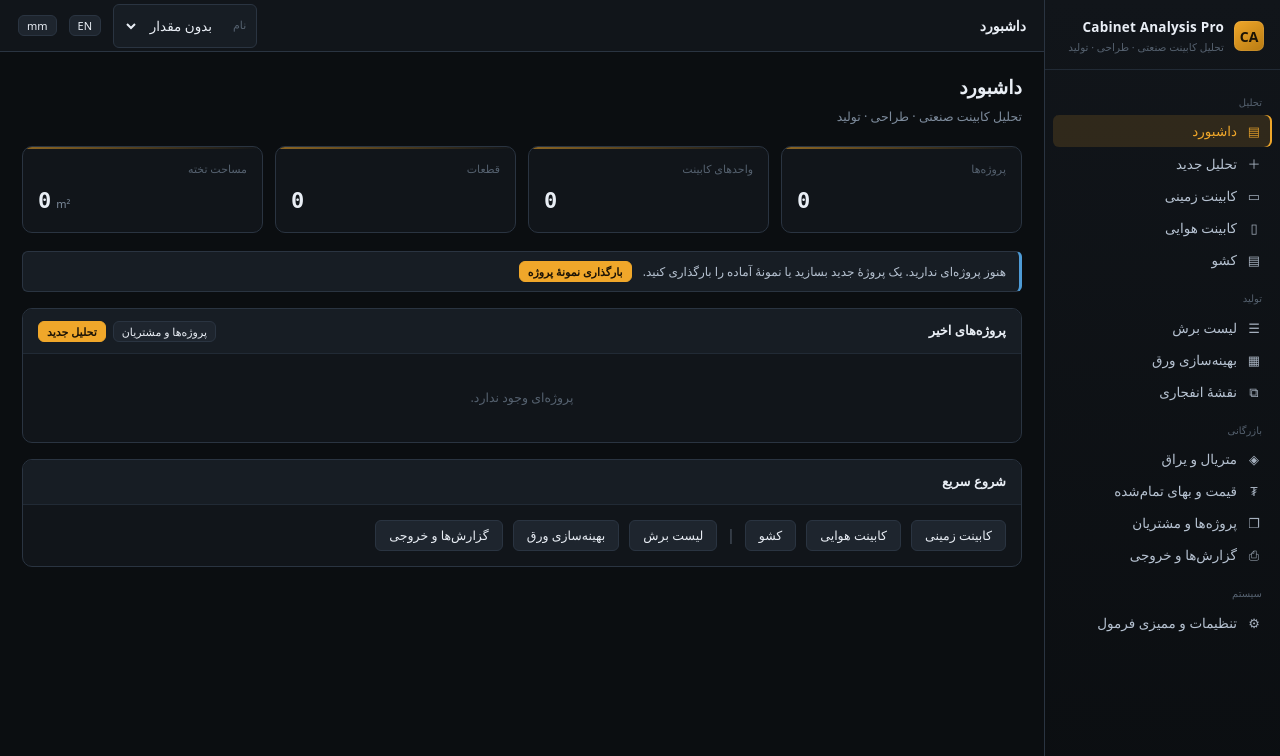
ground cabinet screen › rejects an impossible width with a visible error
Click the button "بارگذاری نمونهٔ پروژه": (575, 272) [519, 261, 632, 282]
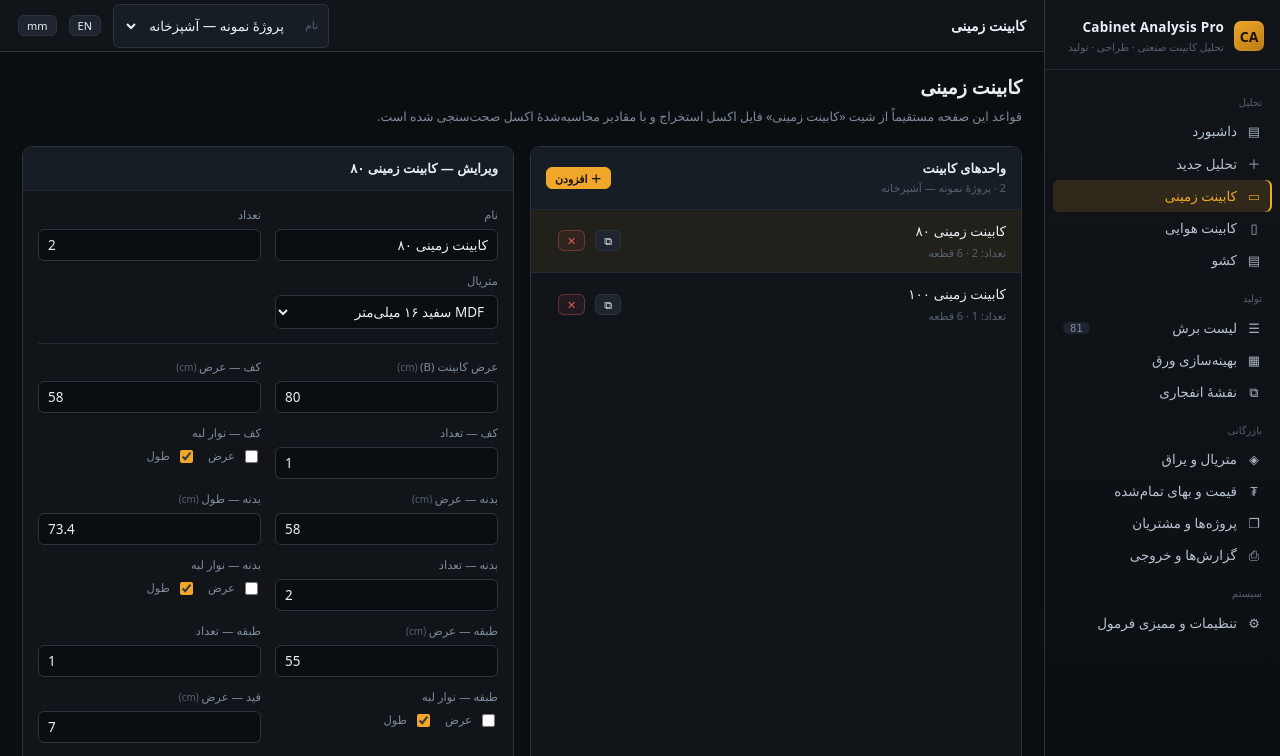
Click the button "▭ کابینت زمینی": (1162, 196) [1053, 180, 1272, 212]
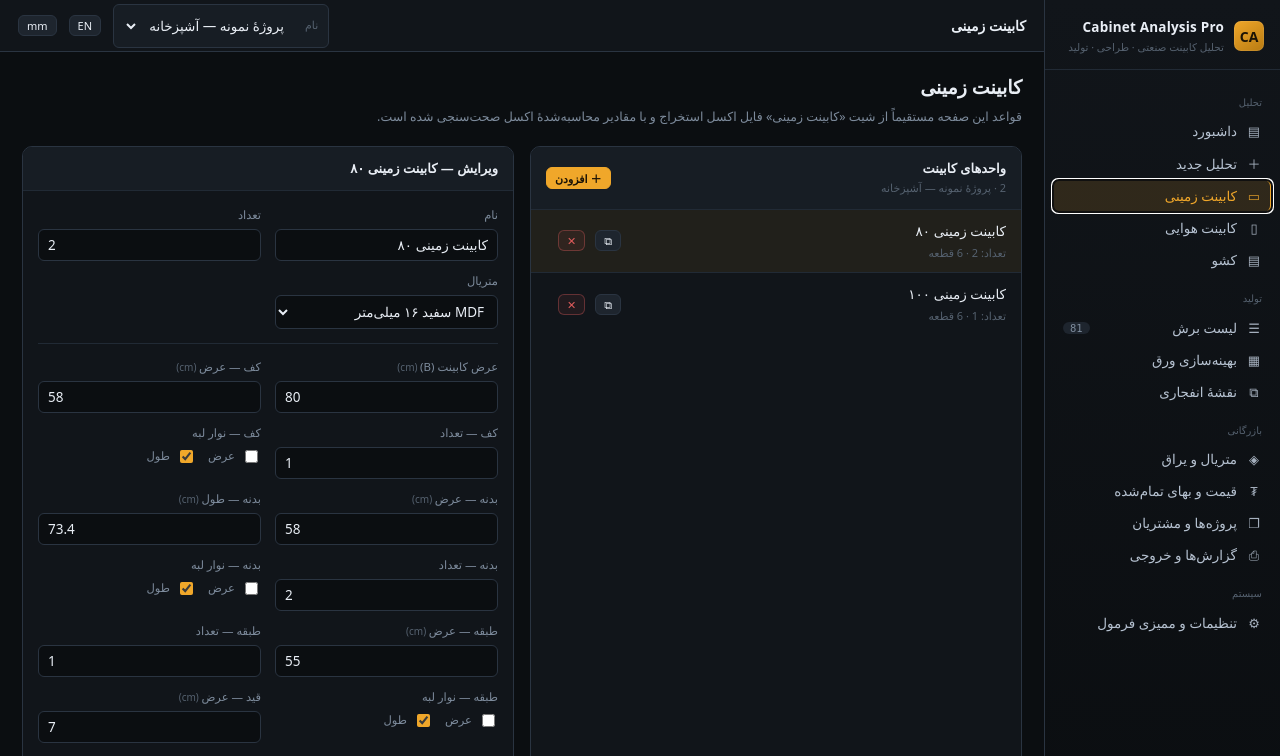
Replace the text in the field labelled "عرض کابینت (B) (cm)" with "0": (386, 397) [275, 381, 498, 413]
(page scrolled)
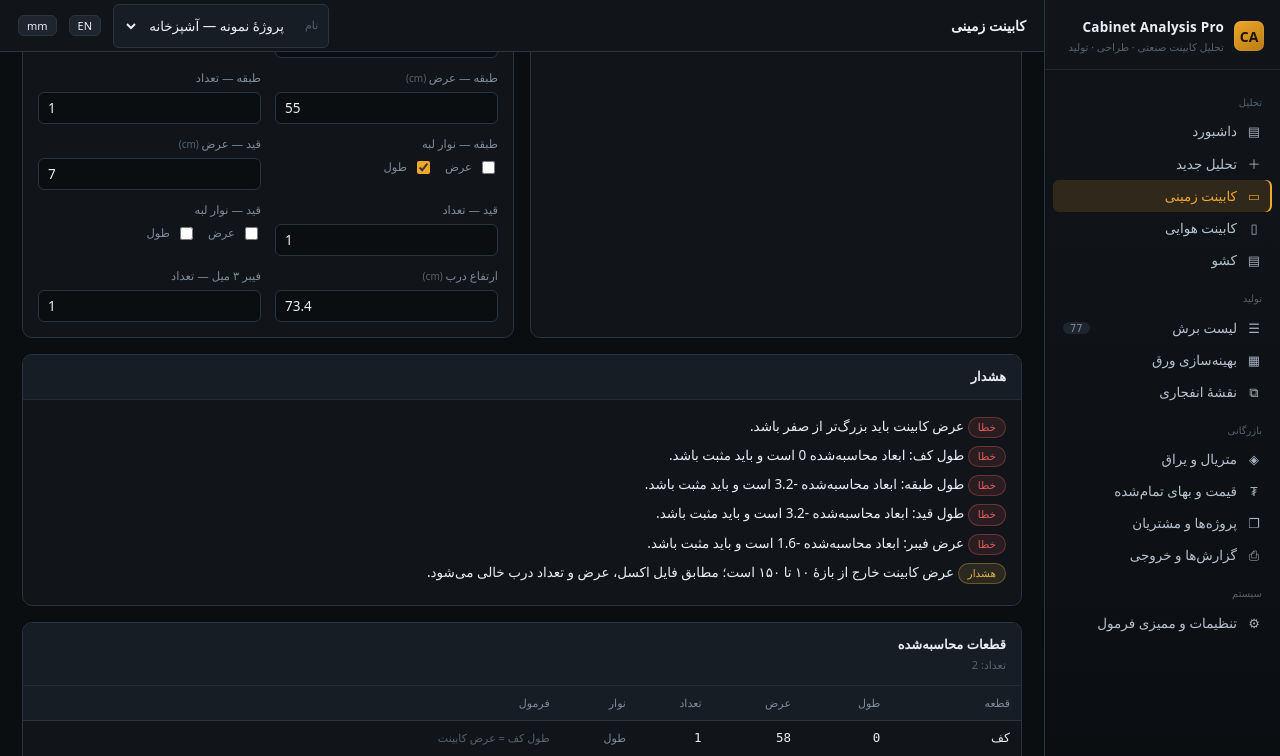
Expected: the text "خطا عرض کابینت باید بزرگ‌تر از صفر باشد." is shown, [750, 416, 1006, 438]
